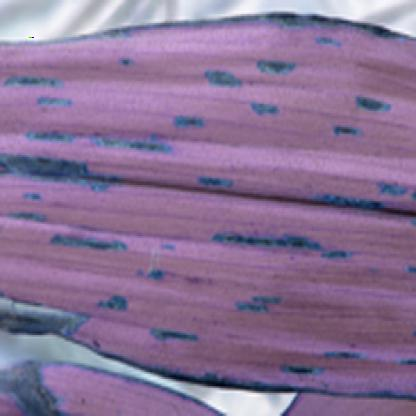corn gray leaf spot: (1, 14, 415, 397)
